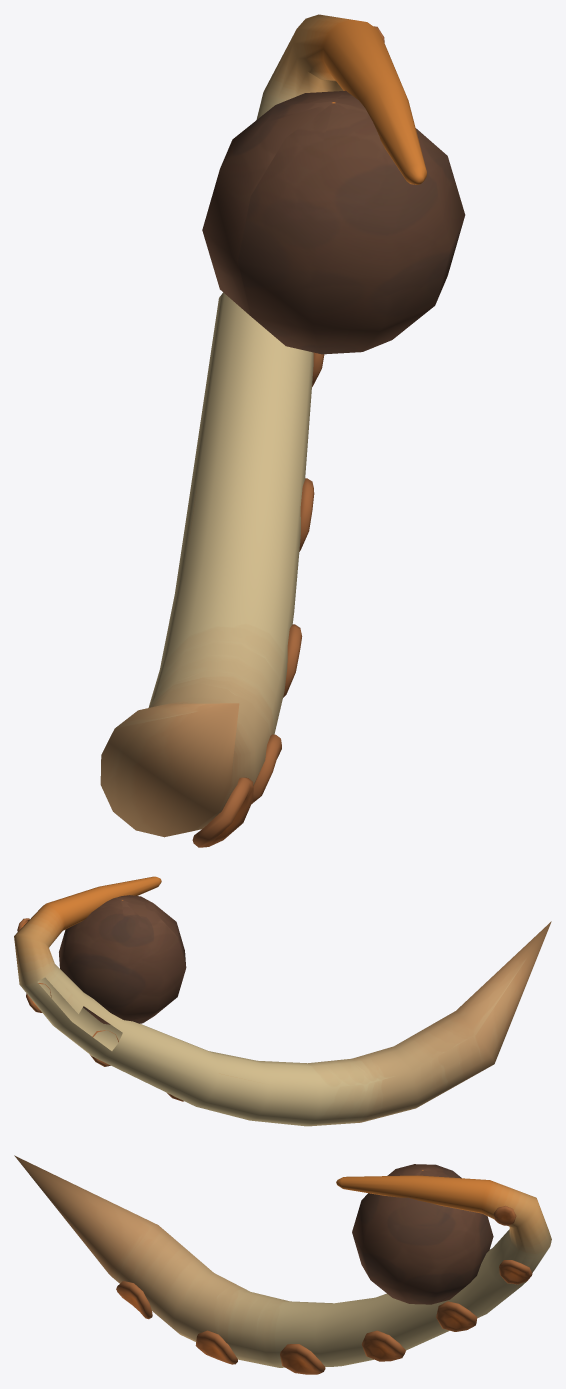
Rendered from OctobusArm.fbx.
The picture shows the model from 3 angles, top to bottom: view 1: azimuth 30°, elevation 25°; view 2: azimuth 150°, elevation 25°; view 3: azimuth 270°, elevation 25°; orthographic projection. The views are drawn at different scales.
Parts seen in each view (by area): view 1: Ten4.002; view 2: Ten4.002; view 3: Ten4.002.
Part boxes in pixels (left/top/right/bottom): Ten4.002: left=100, top=14, right=465, bottom=847; Ten4.002: left=14, top=876, right=551, bottom=1126; Ten4.002: left=14, top=1155, right=551, bottom=1374.
Bounding box in the file's own units: 1053 × 847 × 1503.
